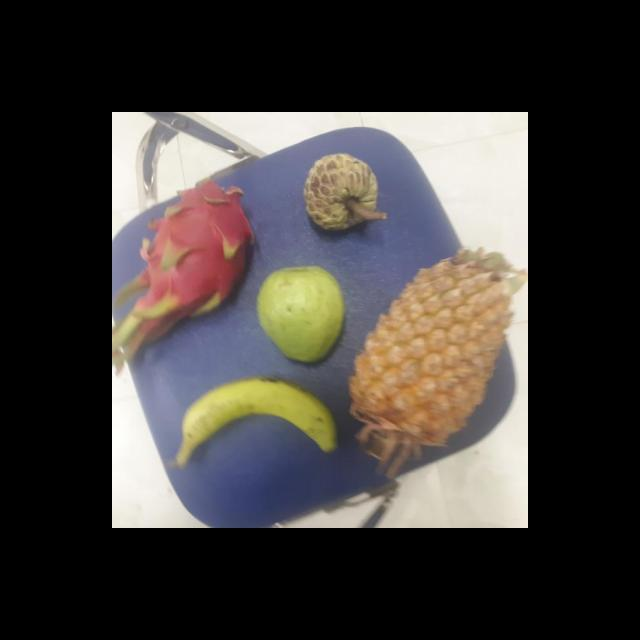Sakya fruit: (298, 155, 378, 233)
banana: (170, 375, 338, 455)
guava: (252, 265, 348, 363)
pitaya: (142, 184, 254, 314)
